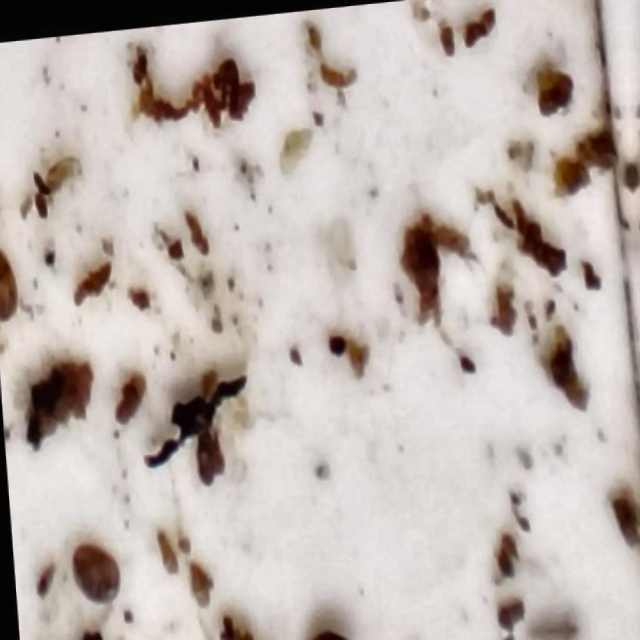varroa: (61, 532, 121, 606)
